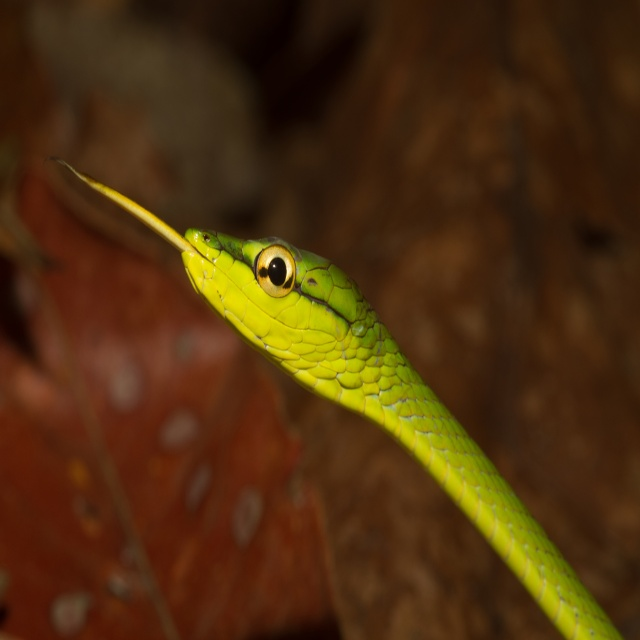Snake: (50, 151, 626, 639)
